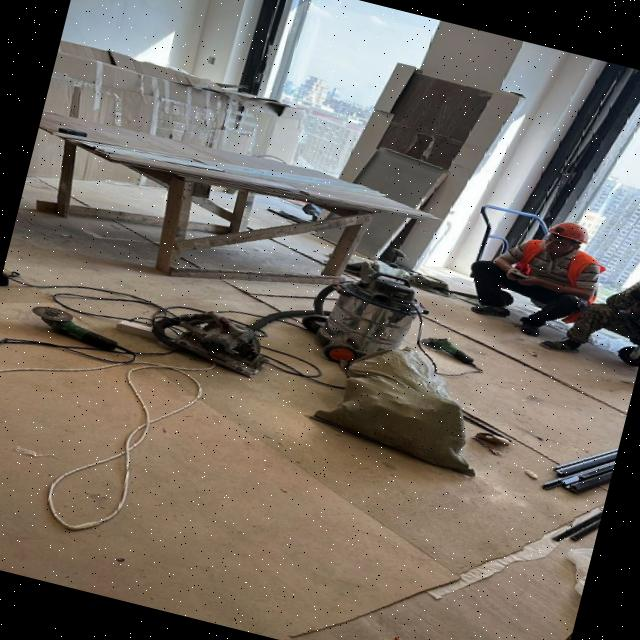Helmet: (545, 218, 594, 254)
Jacket: (511, 236, 594, 305)
